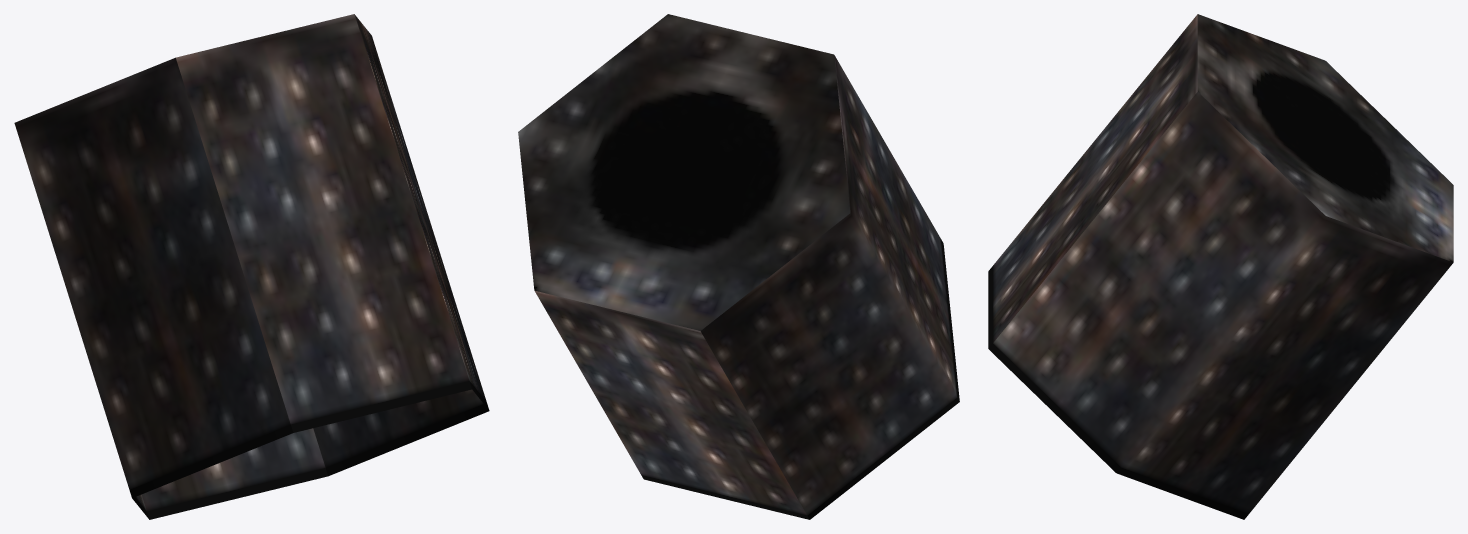
3 views of the same model, side by side, from view 1: azimuth 30°, elevation 25°; view 2: azimuth 150°, elevation 25°; view 3: azimuth 270°, elevation 25° (orthographic). The views are drawn at different scales.
Parts seen in each view (by area): view 1: Cy24; view 2: Cy24; view 3: Cy24.
Part boxes in pixels (x1,y1,x2,y2): Cy24: (14,14,489,519); Cy24: (518,14,959,519); Cy24: (988,14,1453,519).
Size of the model in its own units: 8.27 by 10.64 by 10.47.
